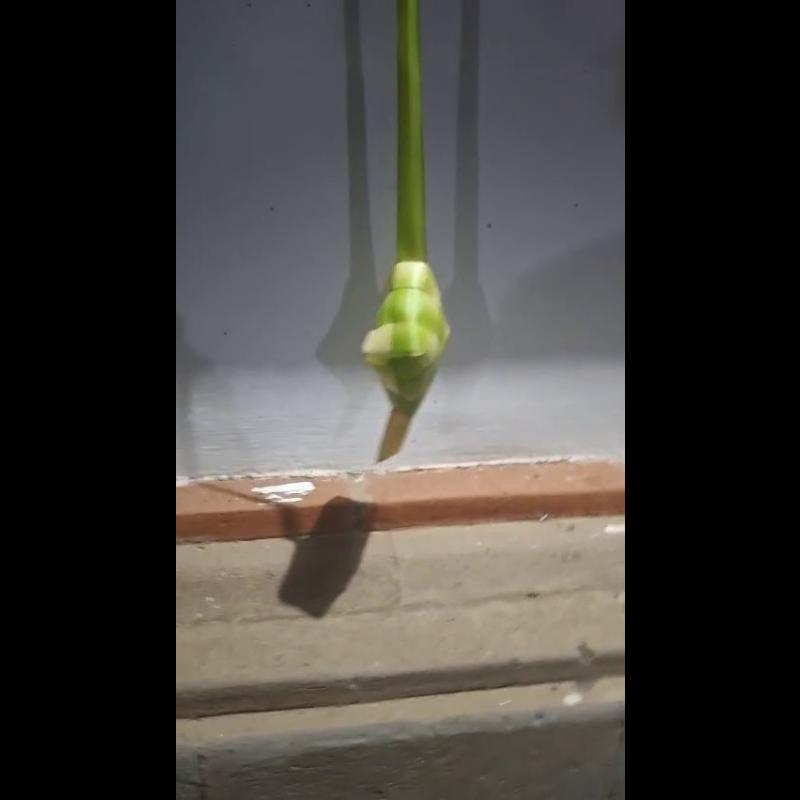Tipat Nasi: (358, 256, 466, 461)
